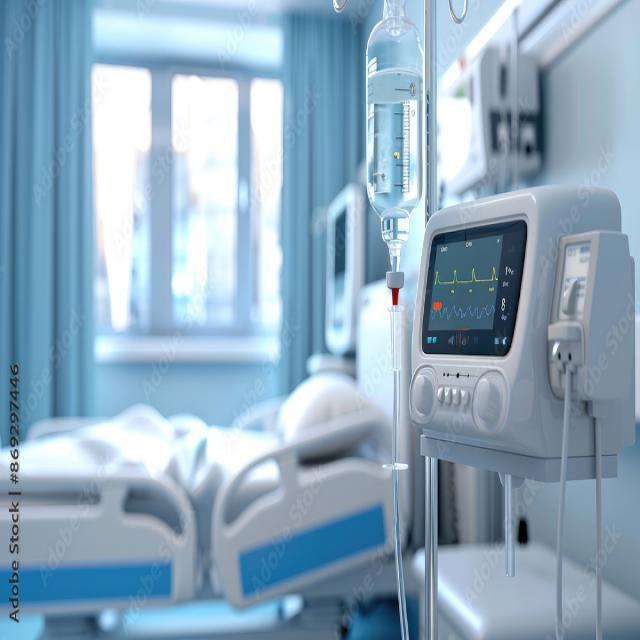Monitor: (407, 171, 640, 511)
bed: (3, 296, 410, 640)
